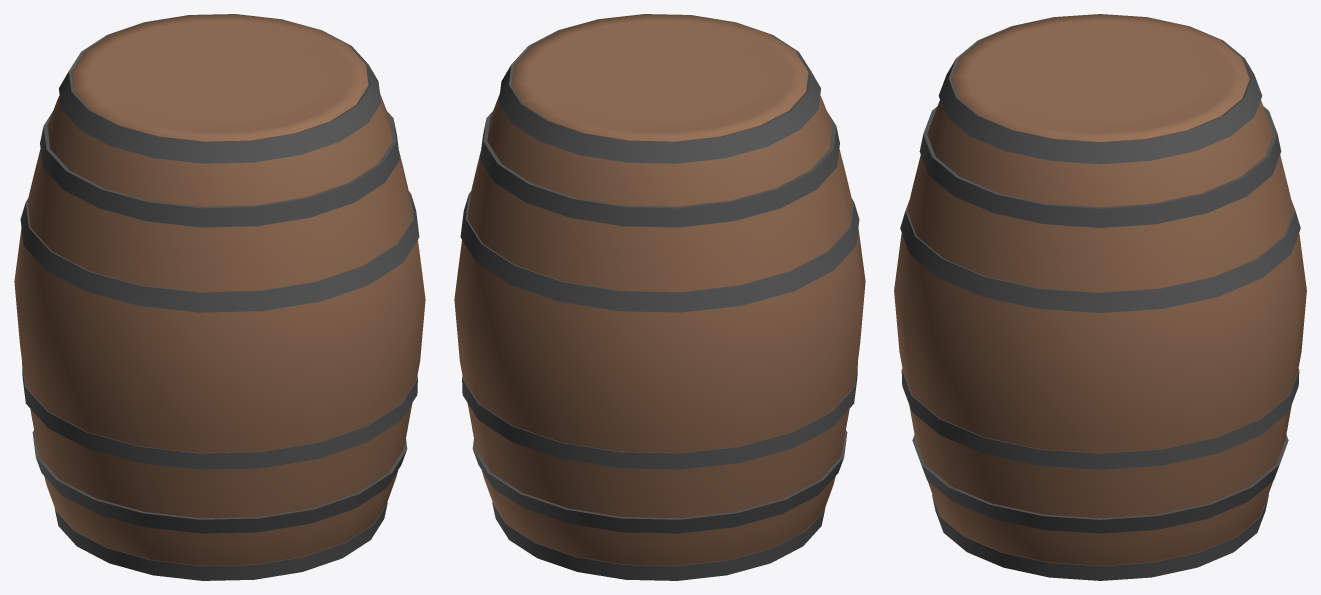
The model's file is BarrelV1.fbx.
The picture shows the model from 3 angles, left to right: view 1: azimuth 30°, elevation 25°; view 2: azimuth 150°, elevation 25°; view 3: azimuth 270°, elevation 25°; orthographic projection.
Parts seen in each view (by area): view 1: pCylinder1, pCylinder6, pCylinder2, pCylinder4, pCylinder7, pCylinder5, pCylinder3; view 2: pCylinder1, pCylinder6, pCylinder2, pCylinder4, pCylinder7, pCylinder5, pCylinder3; view 3: pCylinder1, pCylinder6, pCylinder2, pCylinder4, pCylinder7, pCylinder5, pCylinder3.
Part boxes in pixels (x1,y1,x2,y2): pCylinder1: (14, 14, 425, 565); pCylinder6: (20, 191, 419, 312); pCylinder2: (59, 17, 380, 163); pCylinder4: (40, 111, 399, 227); pCylinder7: (22, 362, 417, 469); pCylinder5: (32, 430, 407, 533); pCylinder3: (54, 502, 387, 580); pCylinder1: (454, 14, 865, 565); pCylinder6: (460, 191, 859, 312); pCylinder2: (499, 17, 820, 163); pCylinder4: (480, 111, 839, 227); pCylinder7: (462, 362, 857, 469); pCylinder5: (472, 430, 847, 533); pCylinder3: (492, 502, 825, 580); pCylinder1: (894, 14, 1306, 565); pCylinder6: (900, 200, 1300, 312); pCylinder2: (938, 17, 1262, 164); pCylinder4: (919, 106, 1281, 227); pCylinder7: (901, 368, 1299, 469); pCylinder5: (912, 435, 1288, 533); pCylinder3: (932, 494, 1268, 580).
Size of the model in its own units: 1.84 by 2.15 by 1.84.
